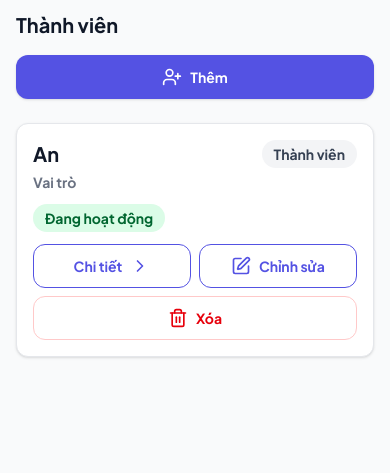
Test: MemberView (I/O matrix) › edit member (mobile card): update payload with updated_at + .eq(id), leaves edit mode
Click the button "Chỉnh sửa".
click(278, 266)  # box [199,244,357,288]
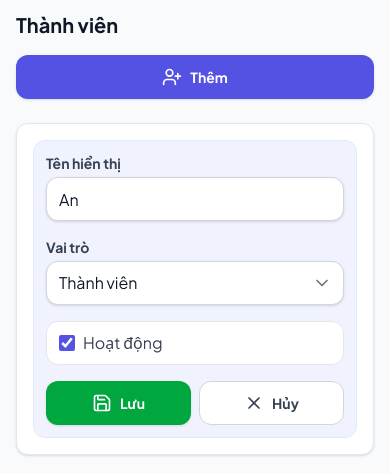
Replace the text in the field labelled "Tên hiển thị" with "An 2" at (195, 199), box [46,177,344,221]
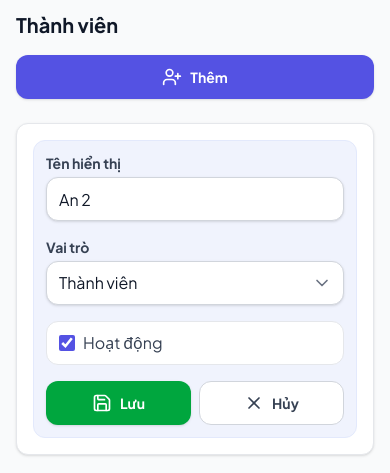
Submit the form, box [33,140,357,438]
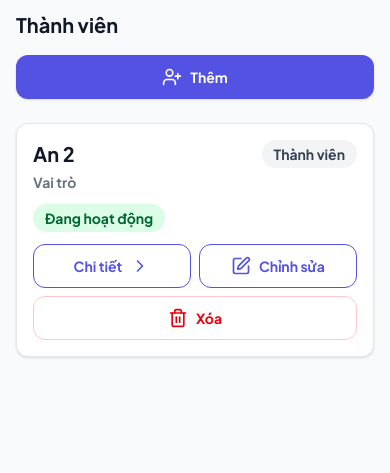
Now the heading "An 2" is shown, box [33,140,76,168]
